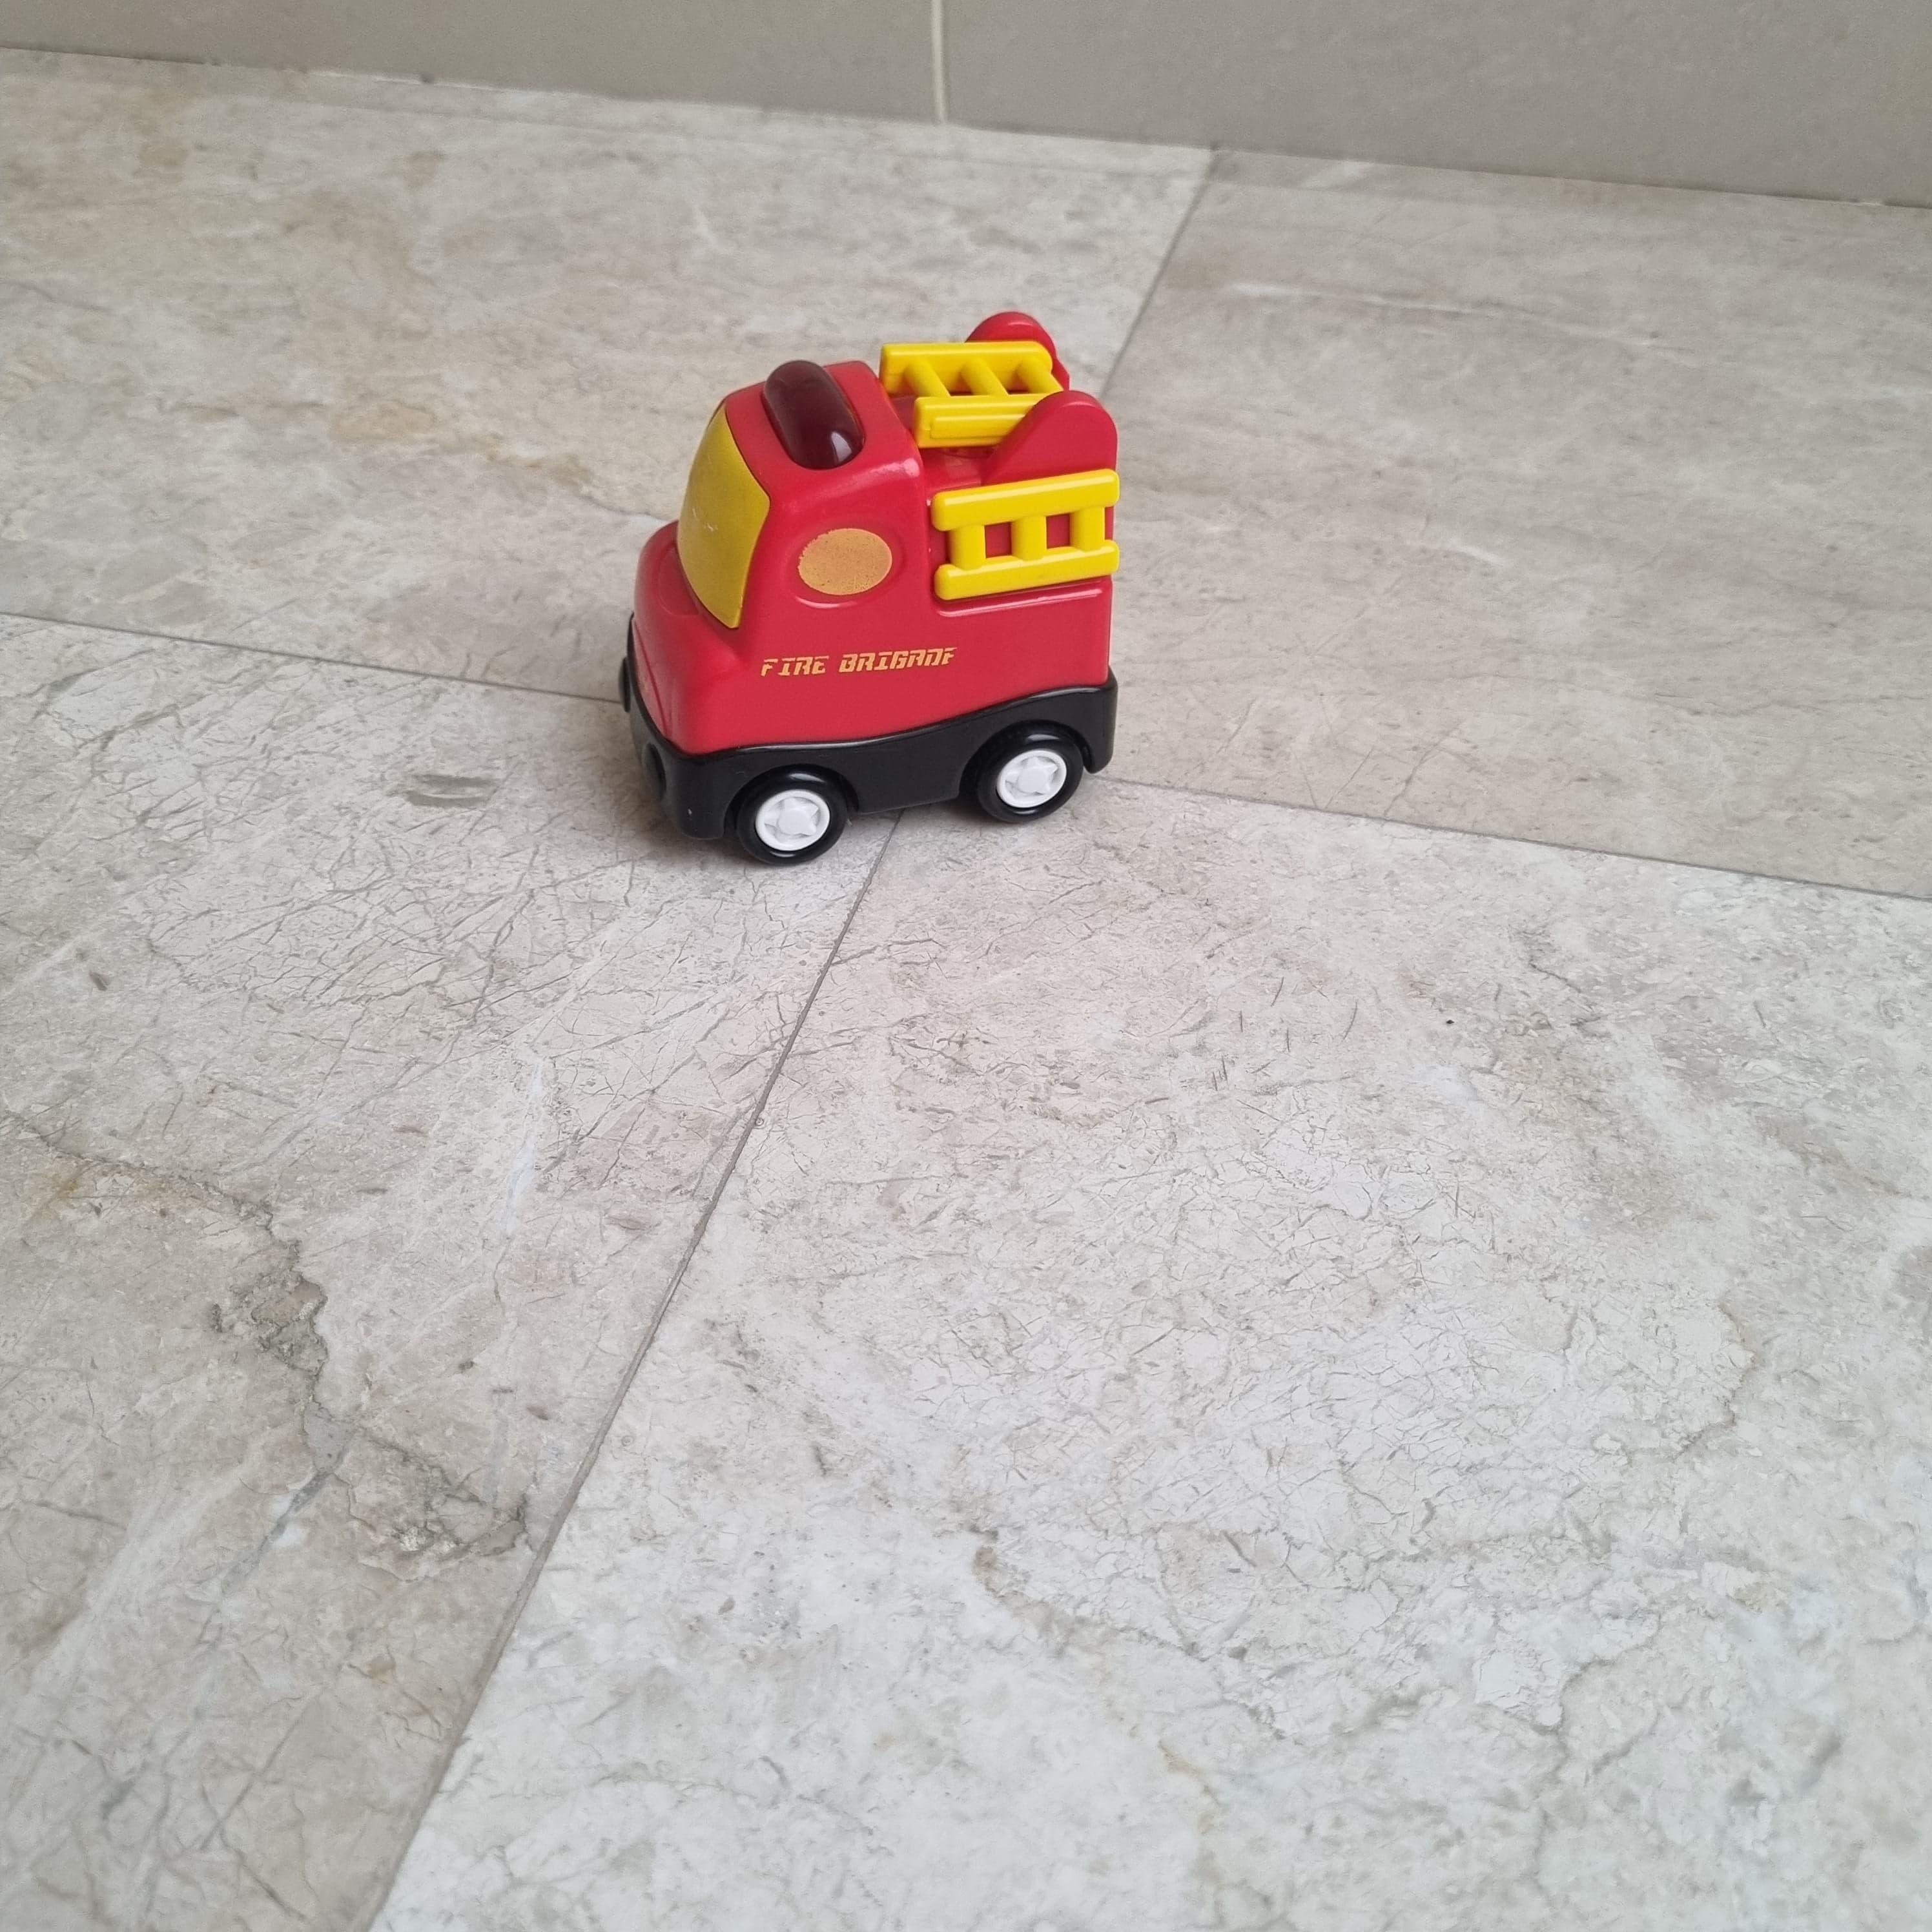firetruck_off: (617, 313, 1116, 869)
